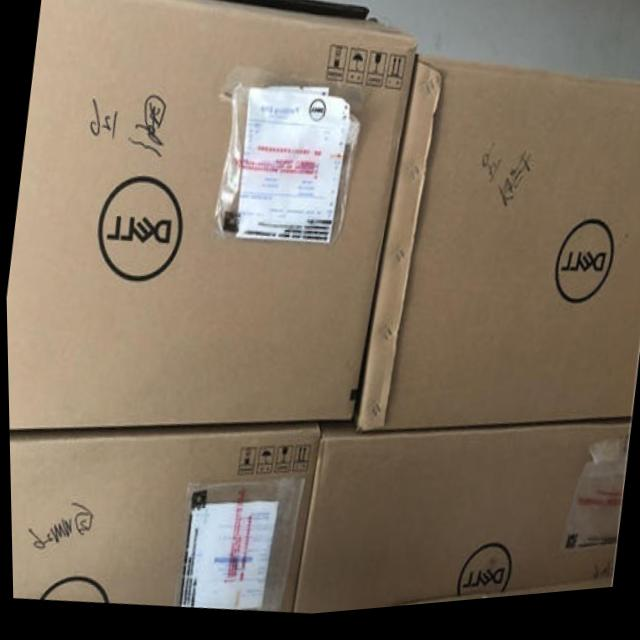box: (5, 0, 417, 429), (352, 62, 640, 440), (289, 425, 630, 619), (8, 427, 320, 618)
